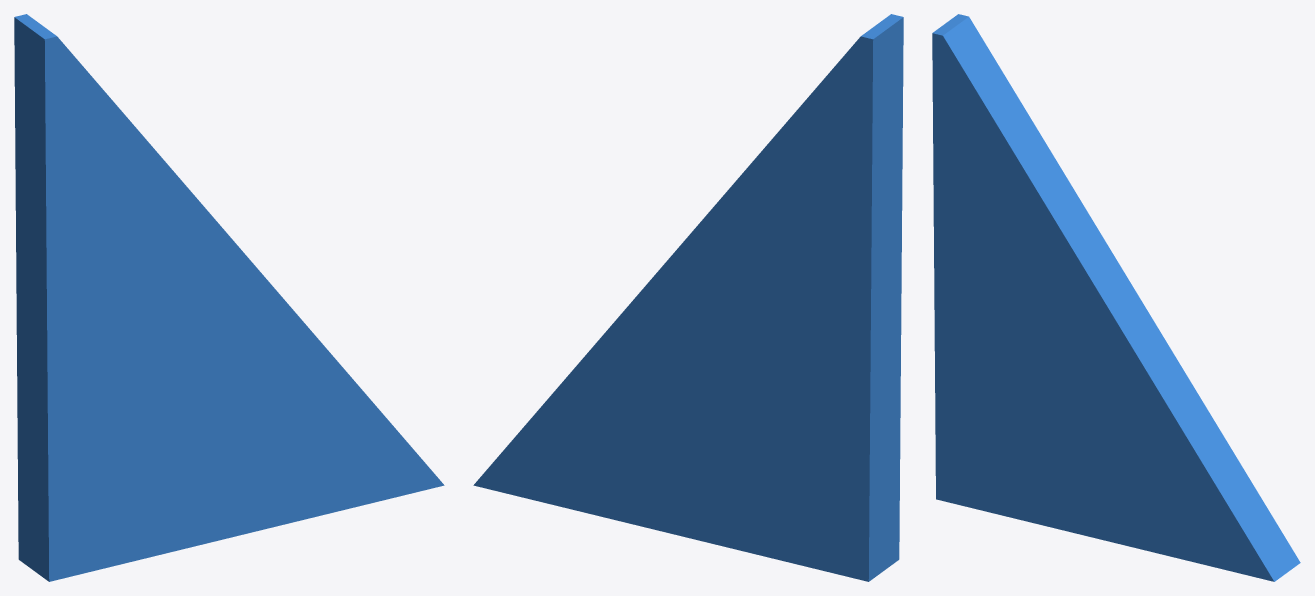
File: Collision_Roof_Front_Brick6_Half_R.fbx
3 views of the same model, side by side, from view 1: azimuth 30°, elevation 25°; view 2: azimuth 150°, elevation 25°; view 3: azimuth 330°, elevation 25° (orthographic). The views are drawn at different scales.
Visible parts, largest first — view 1: UCX_Roof_Front_Brick6_Half_R_1; view 2: UCX_Roof_Front_Brick6_Half_R_1; view 3: UCX_Roof_Front_Brick6_Half_R_1.
Boxes of the visible parts, <box> form: UCX_Roof_Front_Brick6_Half_R_1: <box>14,14,444,581</box>; UCX_Roof_Front_Brick6_Half_R_1: <box>473,14,903,581</box>; UCX_Roof_Front_Brick6_Half_R_1: <box>932,14,1300,581</box>.
Size of the model in its own units: 347 by 451 by 45.89.
